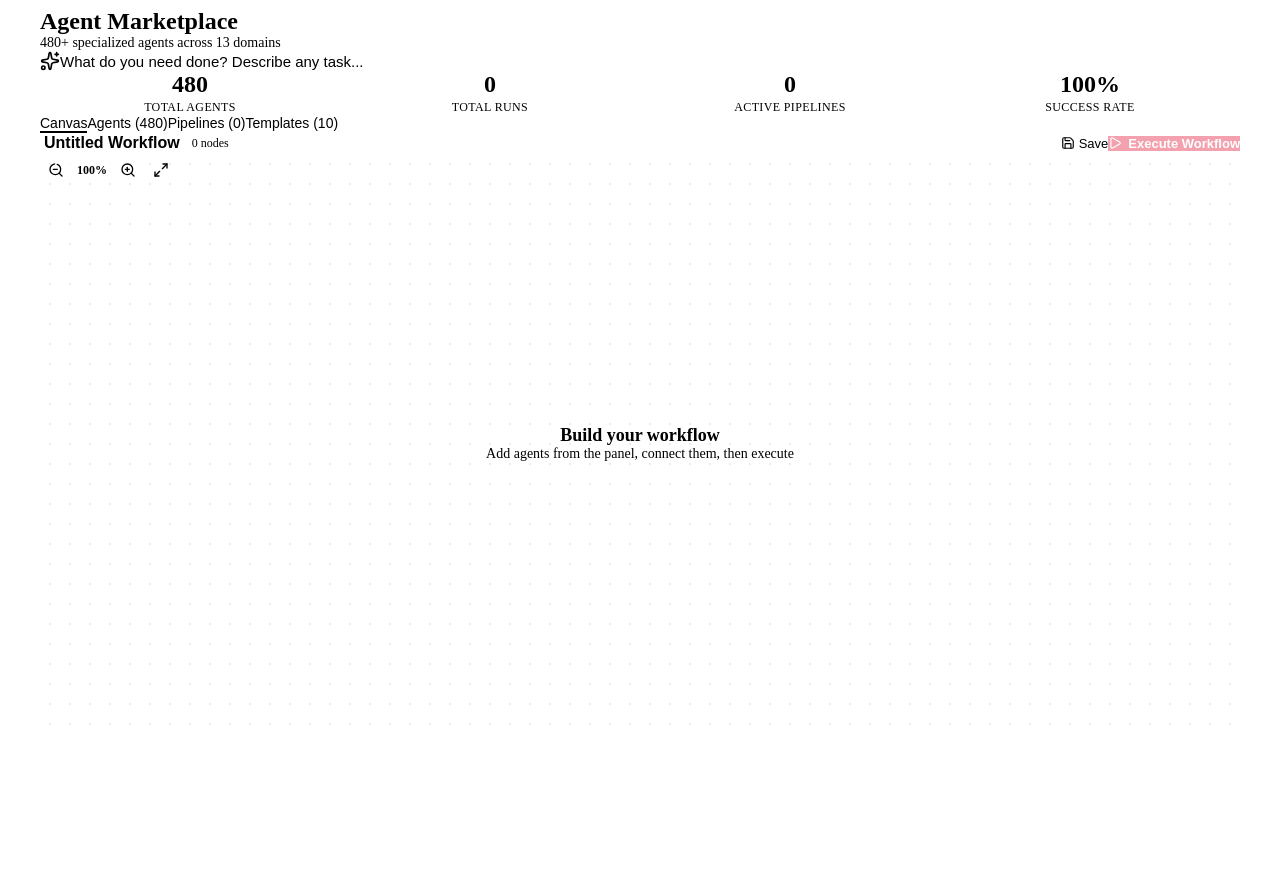
Test: AIAgentsPage › filters agents by search query
Click the tab "Agents (480)": (128, 124) x1=88 y1=115 x2=168 y2=133
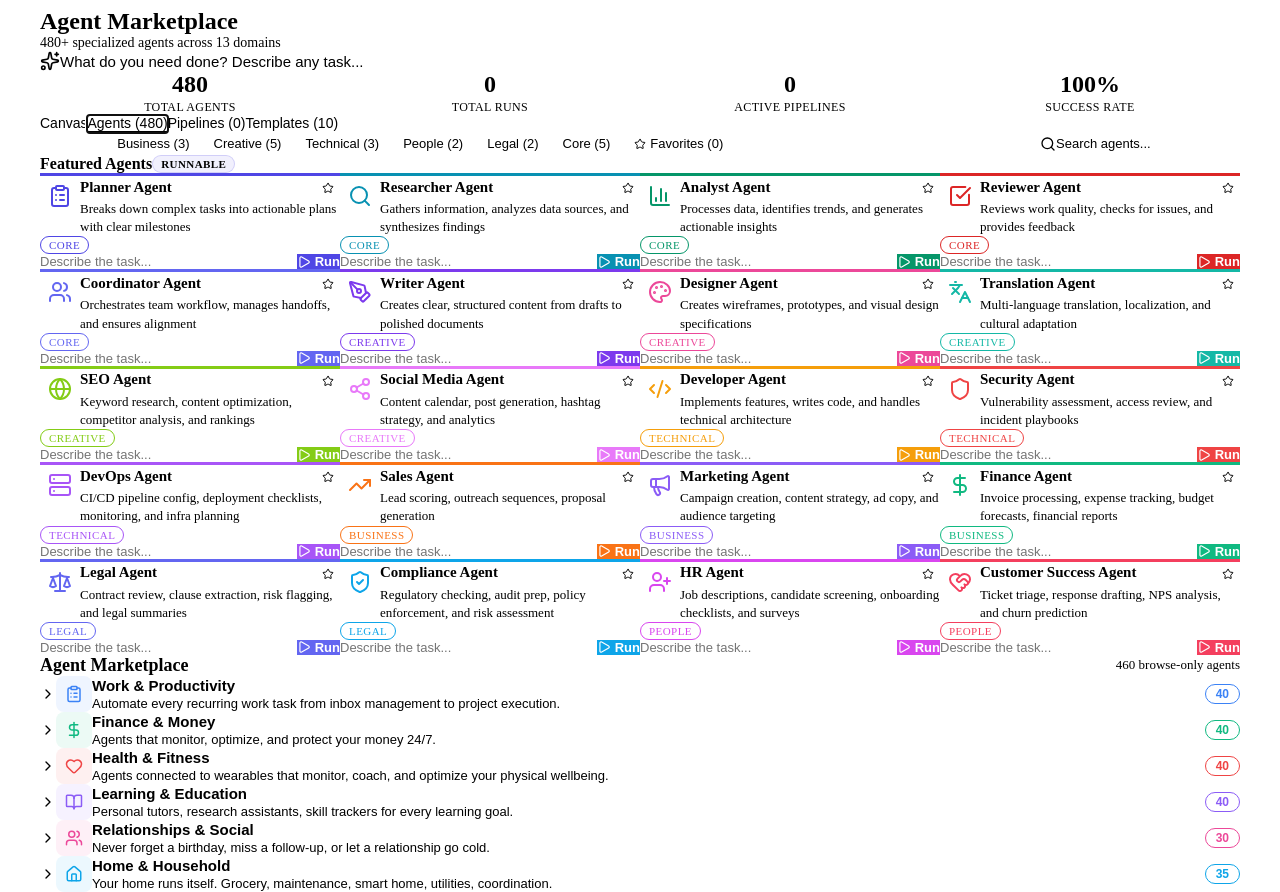
In the field labelled "Search agents": (1148, 144) x1=1056 y1=134 x2=1240 y2=153, type "security"
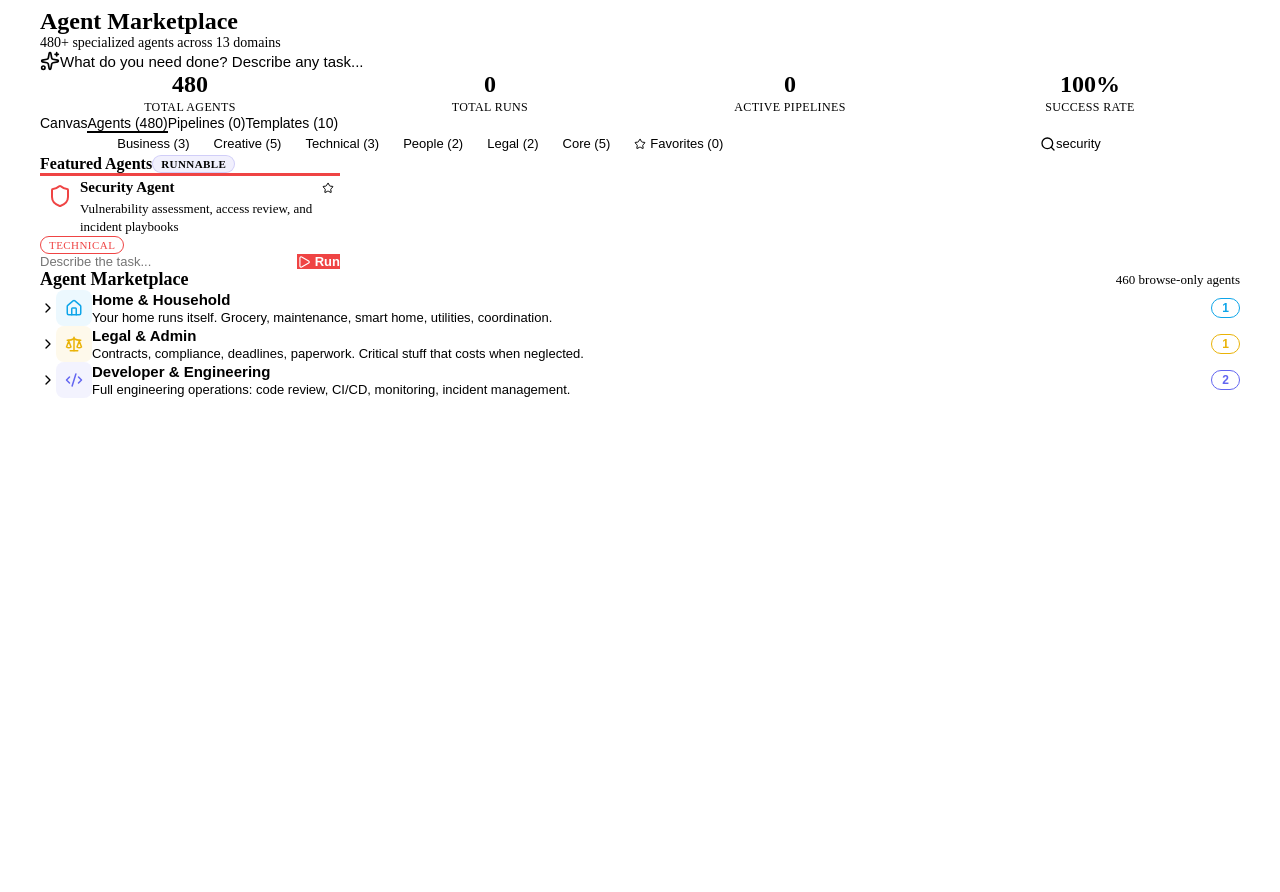
Expected: the heading "Security Agent" is shown, x1=80 y1=178 x2=175 y2=196
Expected: the button "Planner Agent" is gone
